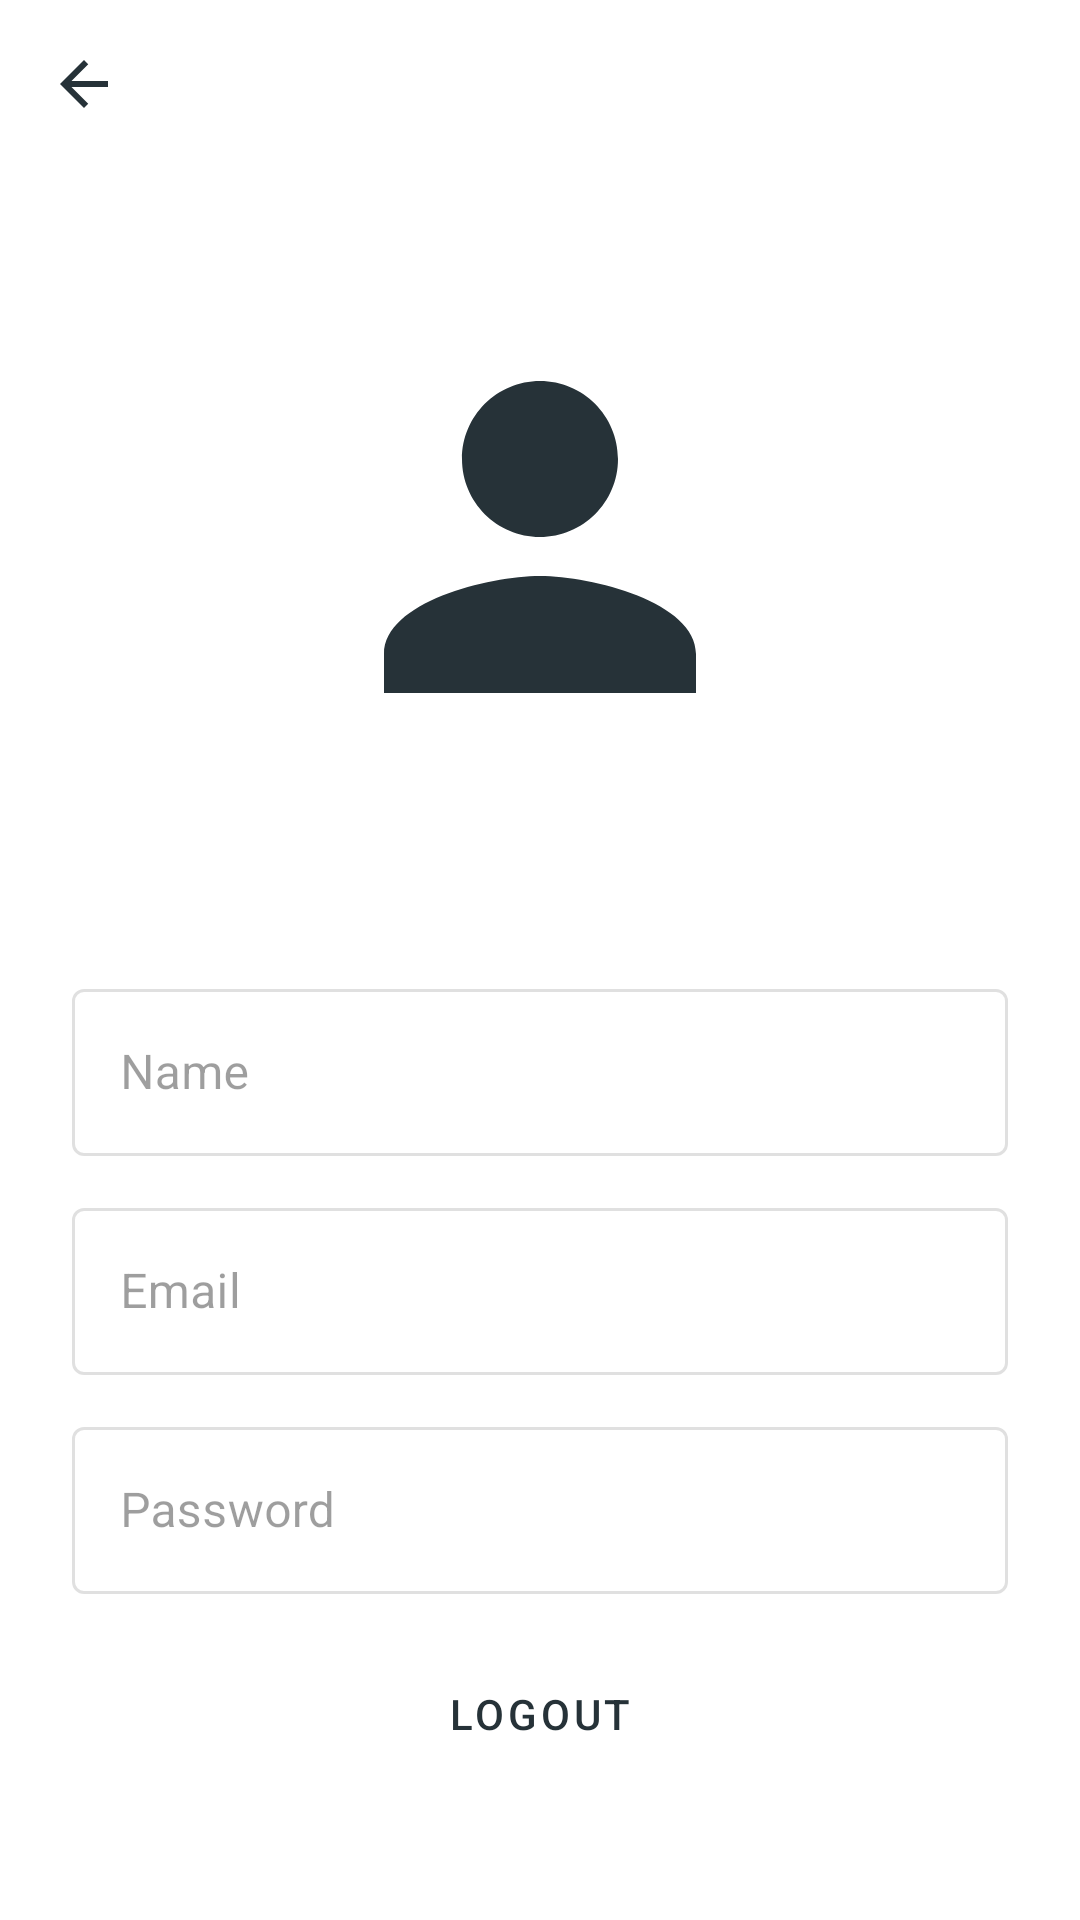

Named icons in this screenshot (1080 x 1920) and their centers, [x,y]:
arrow back: [84,84]
person: [540,537]
